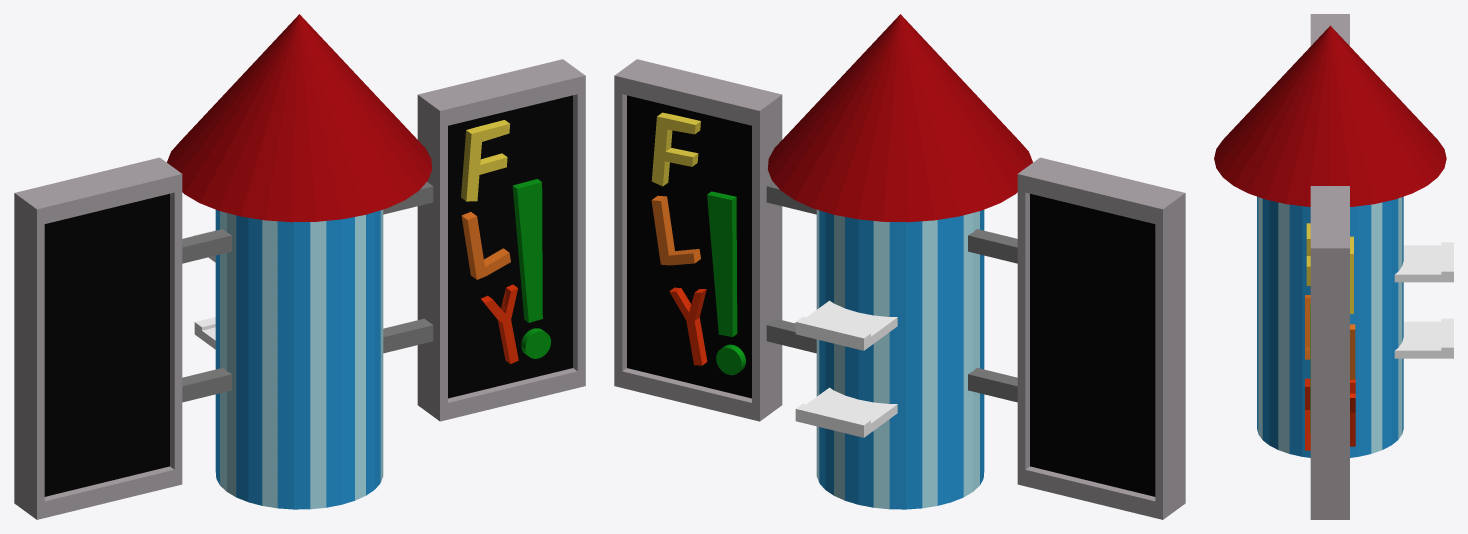
File: Raket stativ.fbx
The picture shows the model from 3 angles, left to right: view 1: azimuth 30°, elevation 25°; view 2: azimuth 150°, elevation 25°; view 3: azimuth 270°, elevation 25°; orthographic projection. The views are drawn at different scales.
Parts seen in each view (by area): view 1: flyskilt.004, flyskilt.003, flyskilt, flyskilt.005, flyskilt.001, flyskilt.011, flyskilt.010, flyskilt.009; view 2: flyskilt.004, flyskilt.003, flyskilt, flyskilt.012, flyskilt.002, flyskilt.005, flyskilt.008, flyskilt.007, flyskilt.006; view 3: flyskilt, flyskilt.003, flyskilt.004, flyskilt.012, flyskilt.009, flyskilt.006, flyskilt.010, flyskilt.007, flyskilt.011, flyskilt.008.
Boxes of the visible parts, bbox=[...] form: flyskilt.004: bbox=[14, 59, 585, 519]; flyskilt.003: bbox=[215, 209, 383, 509]; flyskilt: bbox=[167, 14, 432, 222]; flyskilt.005: bbox=[182, 182, 433, 402]; flyskilt.001: bbox=[512, 179, 550, 358]; flyskilt.011: bbox=[461, 120, 509, 201]; flyskilt.010: bbox=[461, 212, 510, 279]; flyskilt.009: bbox=[481, 284, 518, 363]; flyskilt.004: bbox=[614, 59, 1185, 519]; flyskilt.003: bbox=[816, 209, 984, 509]; flyskilt: bbox=[767, 14, 1032, 222]; flyskilt.012: bbox=[795, 300, 897, 437]; flyskilt.002: bbox=[707, 191, 745, 375]; flyskilt.005: bbox=[766, 182, 1017, 402]; flyskilt.008: bbox=[651, 112, 700, 186]; flyskilt.007: bbox=[651, 195, 700, 265]; flyskilt.006: bbox=[669, 287, 707, 365]; flyskilt: bbox=[1214, 25, 1446, 206]; flyskilt.003: bbox=[1257, 196, 1403, 457]; flyskilt.004: bbox=[1310, 14, 1349, 519]; flyskilt.012: bbox=[1394, 242, 1453, 358]; flyskilt.009: bbox=[1305, 378, 1310, 450]; flyskilt.006: bbox=[1350, 378, 1355, 446]; flyskilt.010: bbox=[1305, 295, 1310, 359]; flyskilt.007: bbox=[1350, 324, 1355, 379]; flyskilt.011: bbox=[1306, 223, 1310, 285]; flyskilt.008: bbox=[1350, 236, 1353, 313].
Size of the model in its own units: 755 by 605 by 327.
